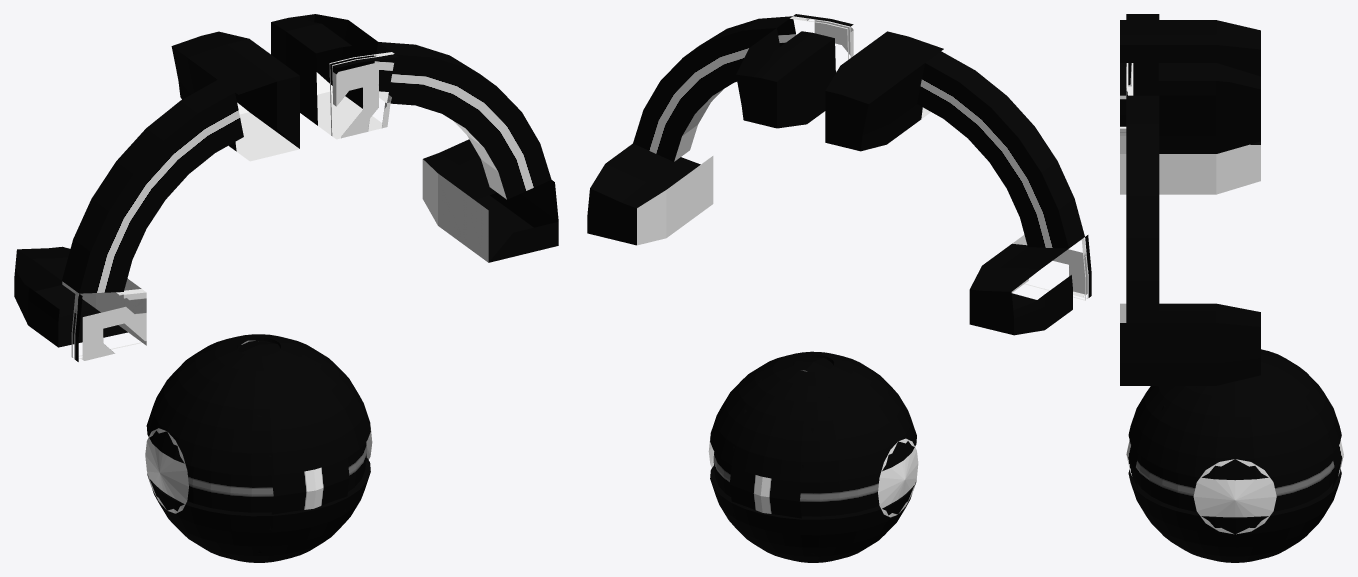
File: BoosterPad.fbx
The picture shows the model from 3 angles, left to right: view 1: azimuth 30°, elevation 25°; view 2: azimuth 150°, elevation 25°; view 3: azimuth 270°, elevation 25°; orthographic projection. The views are drawn at different scales.
Visible parts, largest first — view 1: Cylinder, Sphere, Sphere.001; view 2: Cylinder, Sphere, Sphere.001; view 3: Cylinder, Sphere, Sphere.001.
Part boxes in pixels (x1,y1,x2,y2): Cylinder: (14, 14, 558, 361); Sphere: (146, 334, 370, 562); Sphere.001: (145, 340, 372, 561); Cylinder: (587, 14, 1091, 335); Sphere: (710, 351, 916, 562); Sphere.001: (708, 357, 918, 561); Cylinder: (1120, 14, 1260, 385); Sphere: (1128, 349, 1341, 562); Sphere.001: (1126, 352, 1343, 537).
Size of the model in its own units: 484 by 506 by 206.
